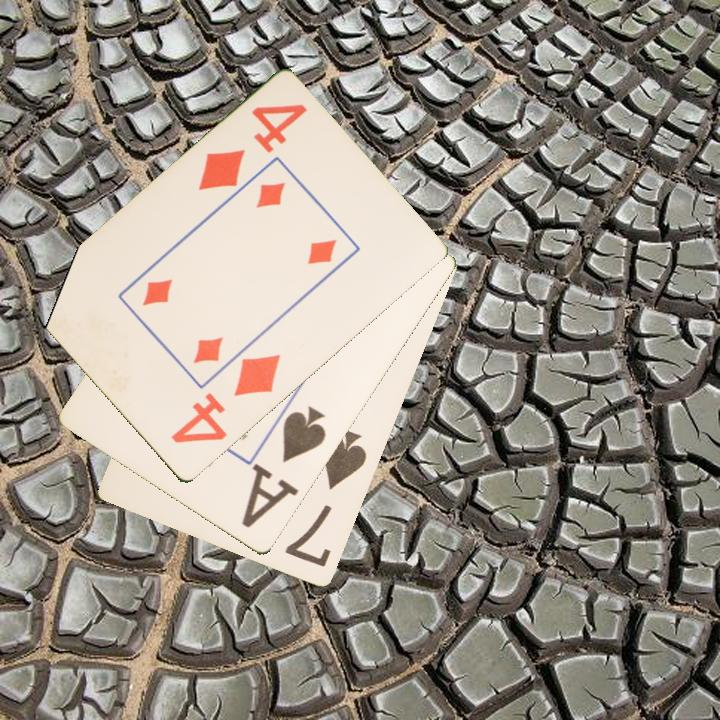4d: (167, 351, 284, 447), (194, 100, 311, 195)
7s: (281, 427, 370, 571)
As: (247, 403, 330, 519)
